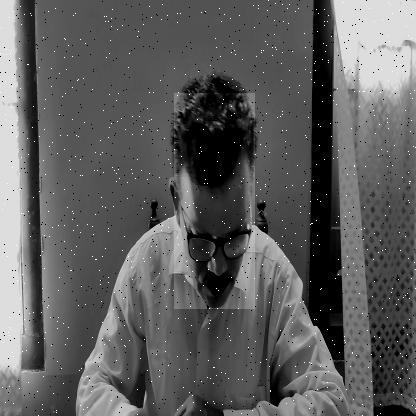Normal: (174, 93, 255, 309)
